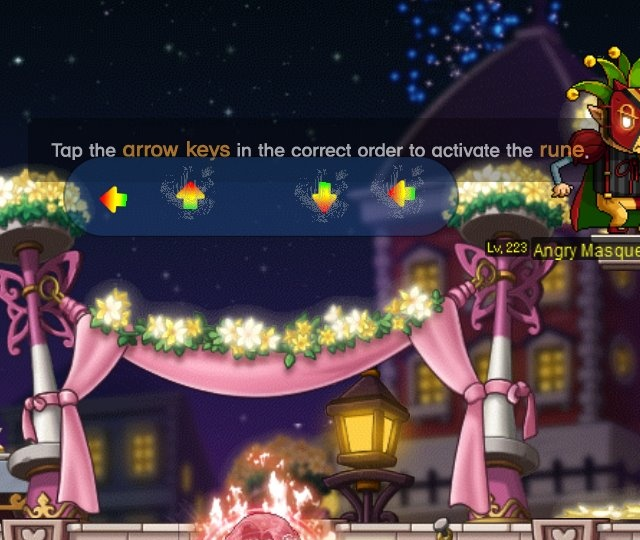down: (307, 177, 345, 216)
left: (96, 180, 133, 219), (381, 176, 422, 211)
up: (167, 172, 211, 220)
